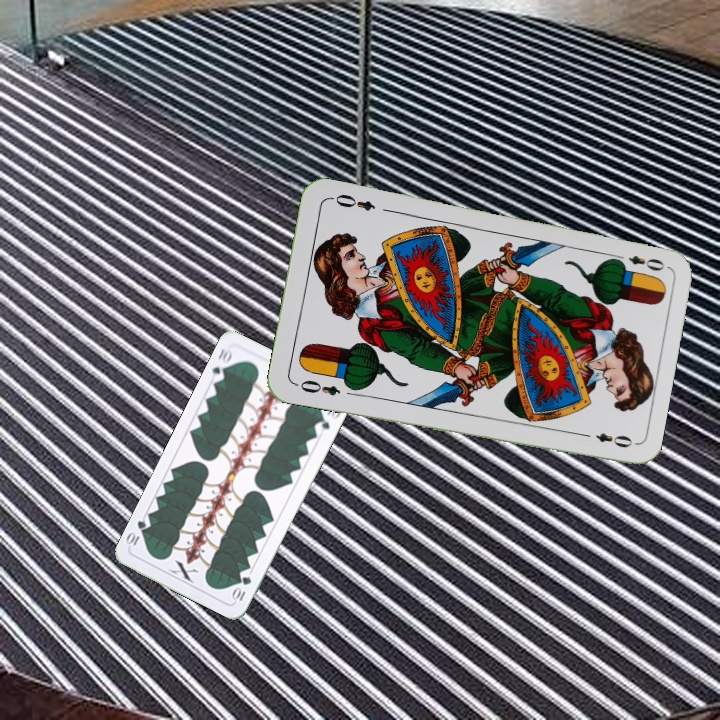EO: (609, 250, 667, 274), (291, 376, 343, 399)
G10: (207, 344, 234, 385), (229, 572, 254, 605)
